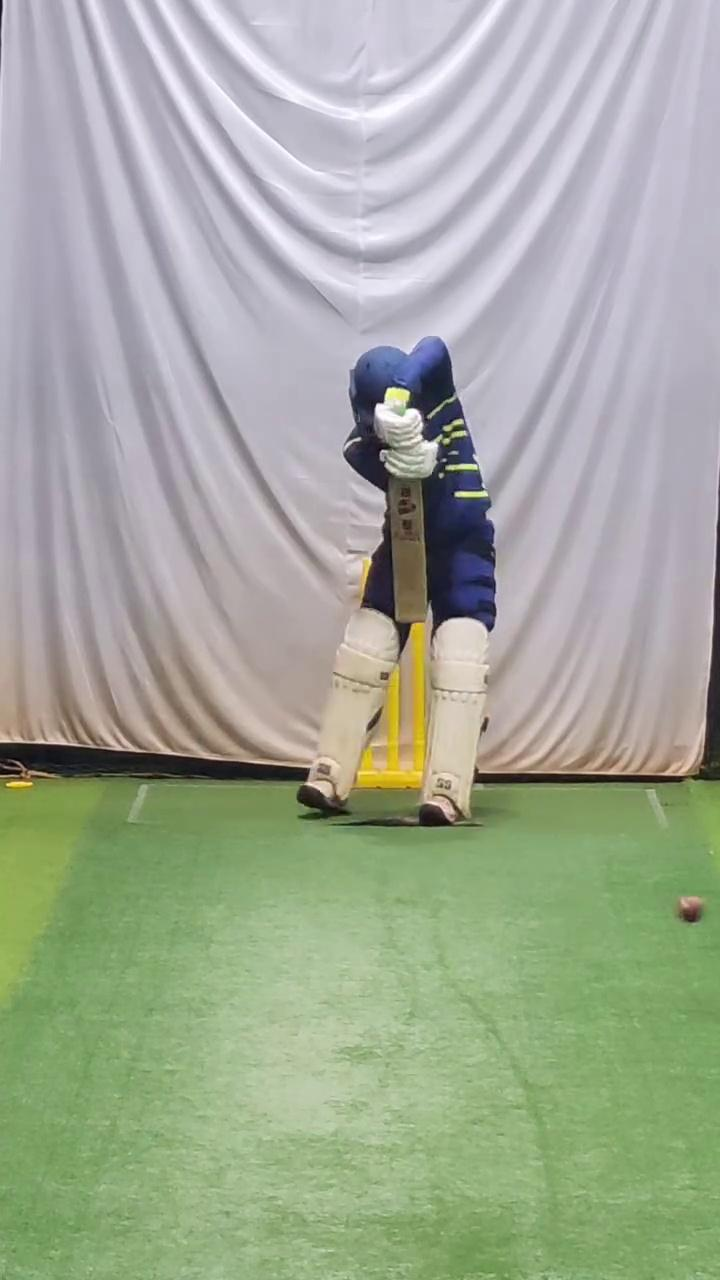bat: (388, 476, 428, 624)
